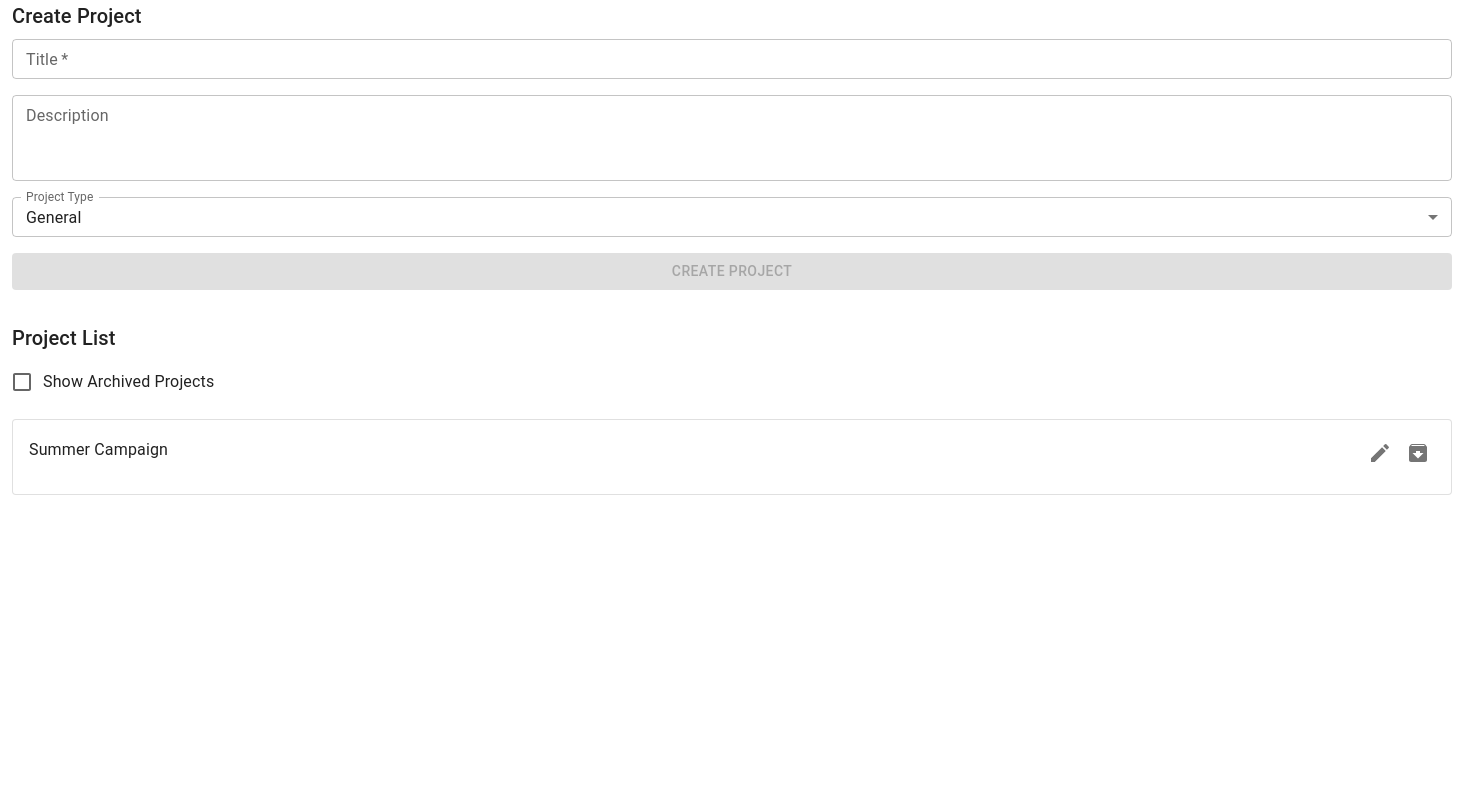
ProjectsSection › Archive error handling › shows error snackbar when archive fails with 422
Expected: the heading "Summer Campaign" is shown, [29, 436, 168, 464]
Click archive button
Step 1. Click the button named "archive" → (1418, 452), box [1401, 436, 1435, 470]
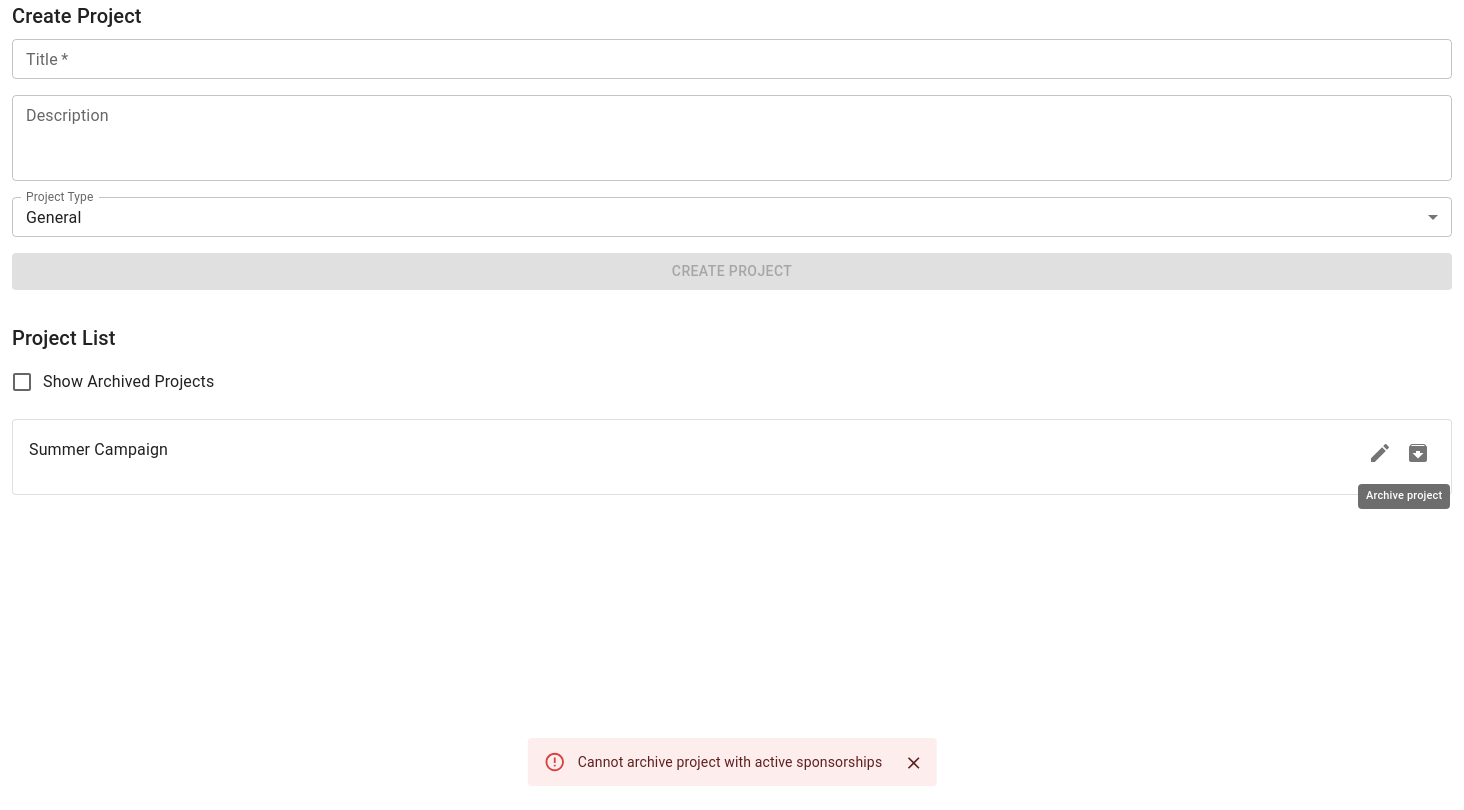
Now the text "Cannot archive project with active sponsorships" is shown, box [578, 754, 882, 770]
